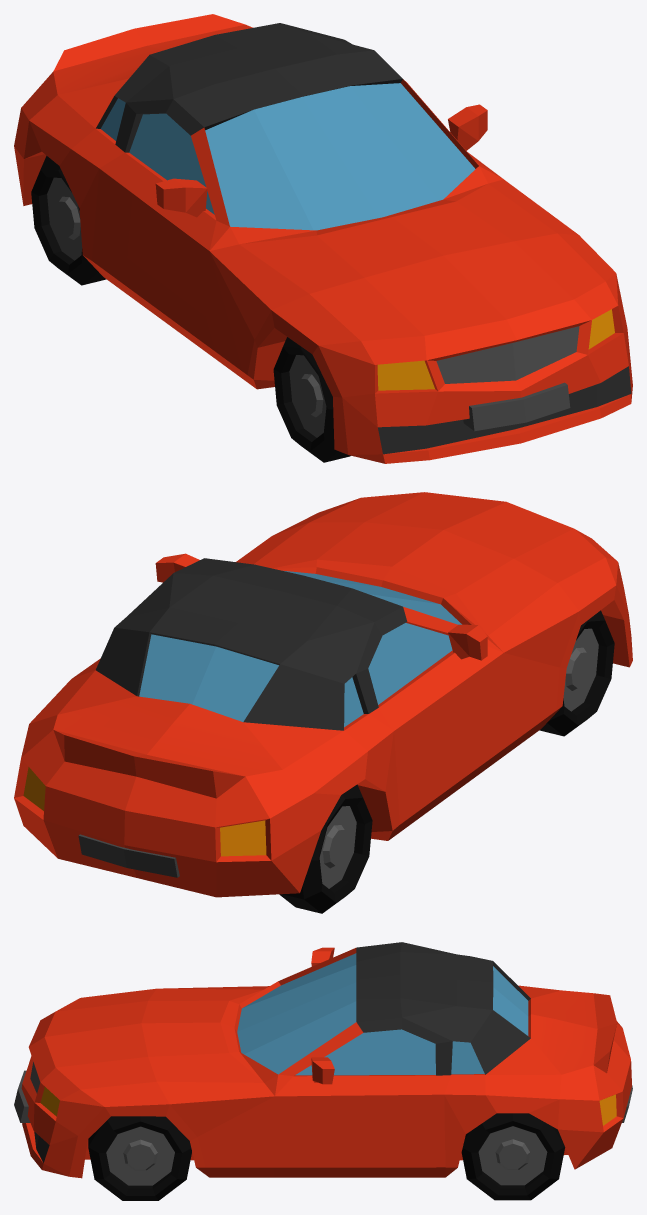
Rendered from car-6.fbx.
3 views of the same model, one above another, from view 1: azimuth 30°, elevation 25°; view 2: azimuth 150°, elevation 25°; view 3: azimuth 270°, elevation 25° (orthographic). The views are drawn at different scales.
Parts seen in each view (by area): view 1: Car 6, Wheel6-4, Wheel6-3; view 2: Car 6, Wheel6-3, Wheel6-4; view 3: Car 6, Wheel6-1, Wheel6-2.
Boxes of the visible parts, <box> form: Car 6: <box>14,14,632,463</box>; Wheel6-4: <box>273,337,350,462</box>; Wheel6-3: <box>31,155,106,285</box>; Car 6: <box>14,492,632,897</box>; Wheel6-3: <box>279,784,372,913</box>; Wheel6-4: <box>539,610,614,736</box>; Car 6: <box>14,942,632,1178</box>; Wheel6-1: <box>461,1113,565,1200</box>; Wheel6-2: <box>88,1116,191,1200</box>.
Bounding box in the file's own units: 490 × 332 × 1055.
